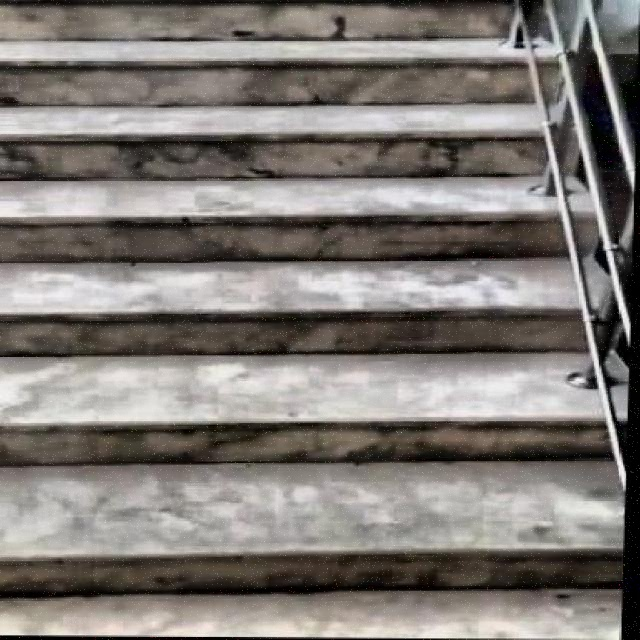stair: (1, 5, 590, 586)
